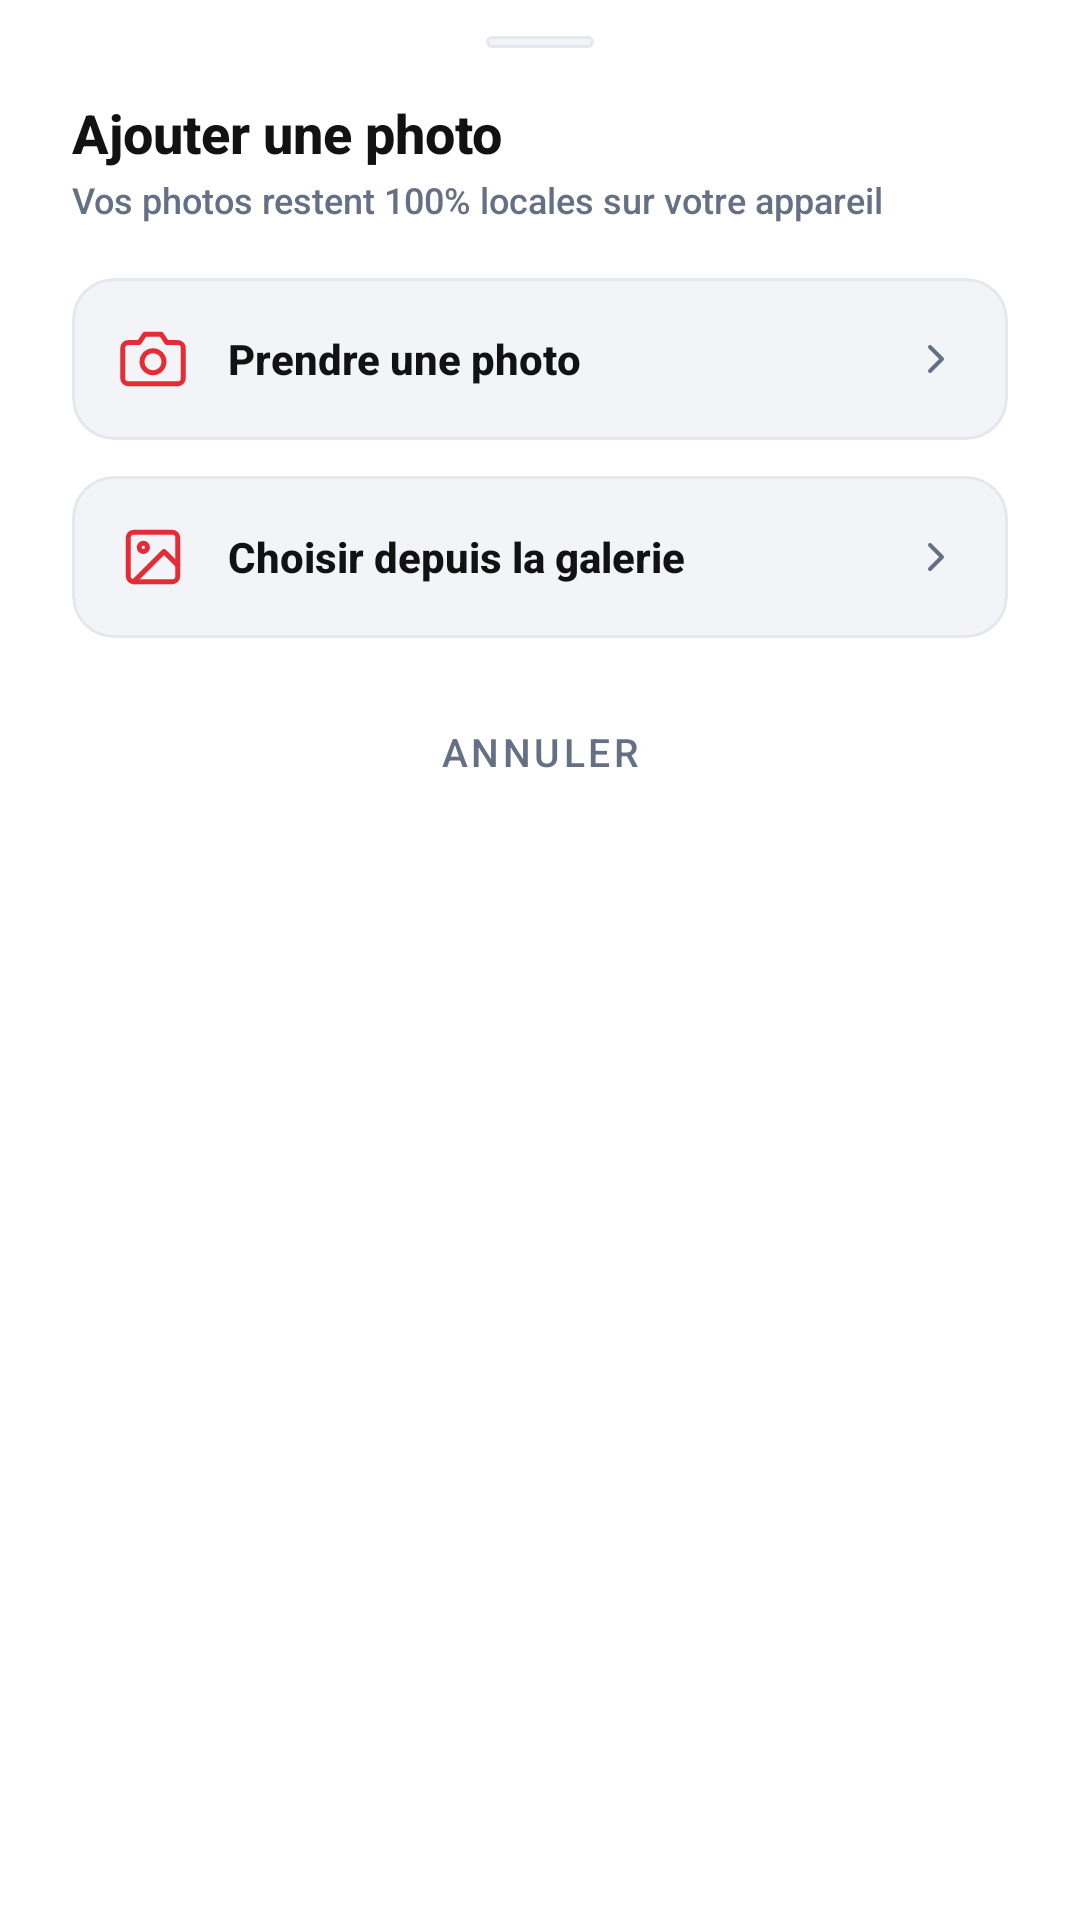

Icons on this 1080*1920 Android screen, each with the point to tap as (x,y):
camera: (153,359)
chevron right: (936,359), (936,557)
